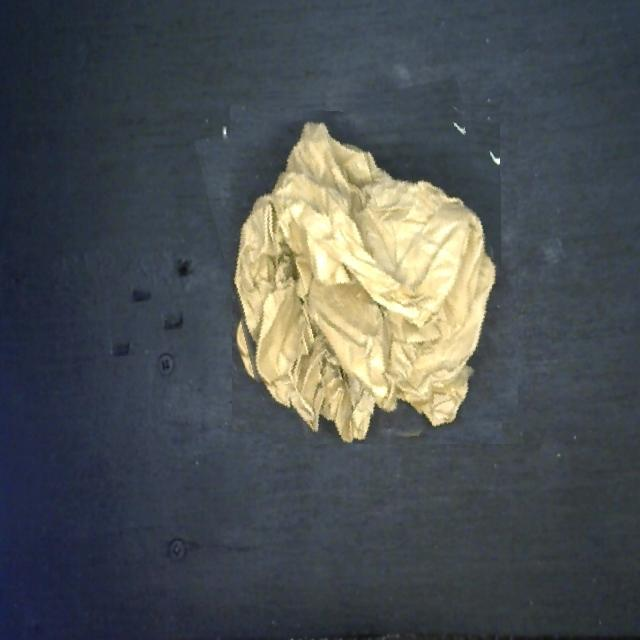biodegradable: (212, 89, 518, 444)
